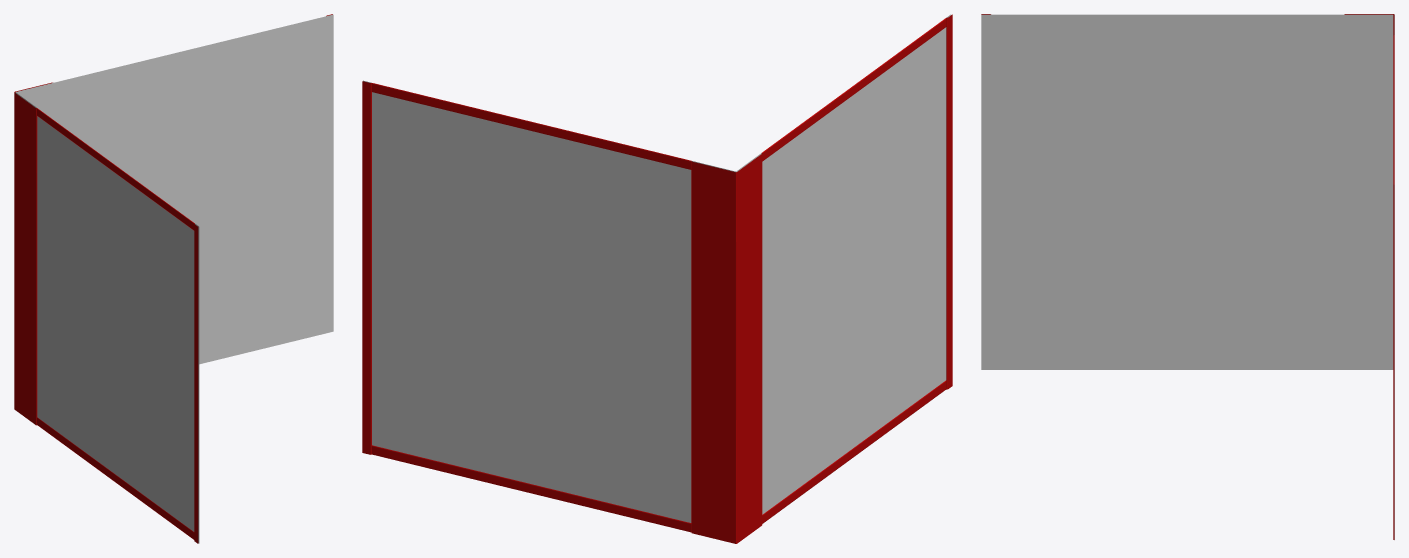
Rendered from Wall02CornerExtTop.fbx.
The picture shows the model from 3 angles, left to right: view 1: azimuth 30°, elevation 25°; view 2: azimuth 150°, elevation 25°; view 3: azimuth 270°, elevation 25°; orthographic projection. The views are drawn at different scales.
Visible parts, largest first — view 1: Wall02CornerExtTop; view 2: Wall02CornerExtTop; view 3: Wall02CornerExtTop.
Boxes of the visible parts, x1,y1,x2,y2 form: Wall02CornerExtTop: (14, 14, 333, 543); Wall02CornerExtTop: (362, 14, 952, 543); Wall02CornerExtTop: (981, 14, 1394, 539).
Size of the model in its own units: 105 by 100 by 105.
